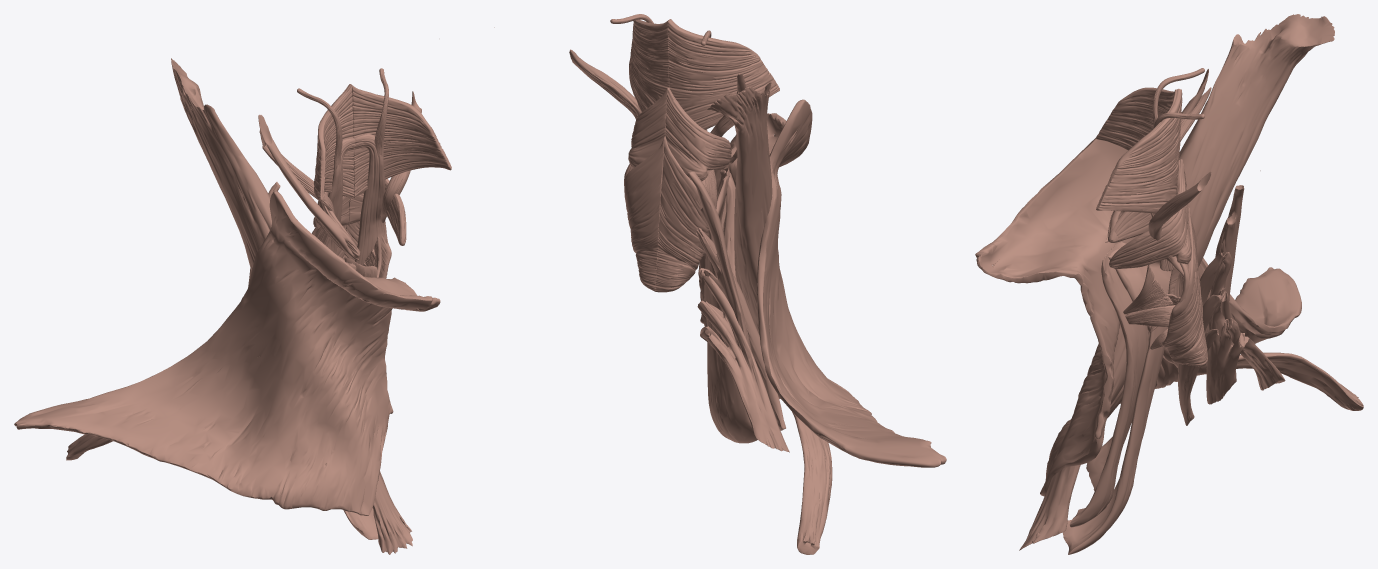
File: neck-1.glb
3 renders of one model, left to right at view 1: azimuth 30°, elevation 25°; view 2: azimuth 150°, elevation 25°; view 3: azimuth 270°, elevation 25°, orthographic. The views are drawn at different scales.
Visible parts, largest first — view 1: FJ1587, FJ1595, FJ2747, FJ2759, FJ2743, FJ1598, FJ2742, FJ2755, FJ2758, FJ2754, FJ2746, FJ1586 (+4 smaller); view 2: FJ1587, FJ1595, FJ2759, FJ2752, FJ1594, FJ1586, FJ2740, FJ1597, FJ2754, FJ2747, FJ1593, FJ2742 (+3 smaller); view 3: FJ1587, FJ1595, FJ2747, FJ1596, FJ1597, FJ1593, FJ2740, FJ2742, FJ2759, FJ1586, FJ1592, FJ1594 (+8 smaller).
Part boxes in pixels (left/top/right/bottom): FJ1587: left=14, top=191, right=440, bottom=515; FJ1595: left=171, top=58, right=412, bottom=554; FJ2747: left=350, top=84, right=451, bottom=198; FJ2759: left=313, top=84, right=354, bottom=201; FJ2743: left=354, top=134, right=388, bottom=277; FJ1598: left=258, top=114, right=360, bottom=260; FJ2742: left=348, top=178, right=406, bottom=245; FJ2755: left=312, top=138, right=355, bottom=254; FJ2758: left=259, top=129, right=334, bottom=246; FJ2754: left=313, top=192, right=360, bottom=257; FJ2746: left=380, top=91, right=421, bottom=222; FJ1586: left=66, top=262, right=356, bottom=460; FJ1587: left=698, top=99, right=946, bottom=467; FJ1595: left=494, top=27, right=772, bottom=334; FJ2759: left=668, top=19, right=779, bottom=129; FJ2752: left=655, top=136, right=708, bottom=292; FJ1594: left=697, top=271, right=789, bottom=452; FJ1586: left=724, top=172, right=832, bottom=554; FJ2740: left=624, top=137, right=664, bottom=291; FJ1597: left=704, top=230, right=757, bottom=443; FJ2754: left=665, top=87, right=731, bottom=181; FJ2747: left=629, top=19, right=670, bottom=111; FJ1593: left=687, top=172, right=751, bottom=358; FJ2742: left=628, top=88, right=667, bottom=167; FJ1587: left=975, top=138, right=1301, bottom=496; FJ1595: left=1019, top=14, right=1334, bottom=550; FJ2747: left=1096, top=88, right=1182, bottom=213; FJ1596: left=1069, top=242, right=1148, bottom=527; FJ1597: left=1063, top=285, right=1169, bottom=554; FJ1593: left=1206, top=185, right=1244, bottom=404; FJ2740: left=1162, top=207, right=1207, bottom=366; FJ2742: left=1109, top=159, right=1191, bottom=268; FJ2759: left=1096, top=87, right=1177, bottom=150; FJ1586: left=1147, top=325, right=1363, bottom=410; FJ1592: left=1178, top=252, right=1225, bottom=425; FJ1594: left=1220, top=291, right=1285, bottom=390.
Bounding box in the file's own units: 0.2085 × 0.2014 × 0.1471.
